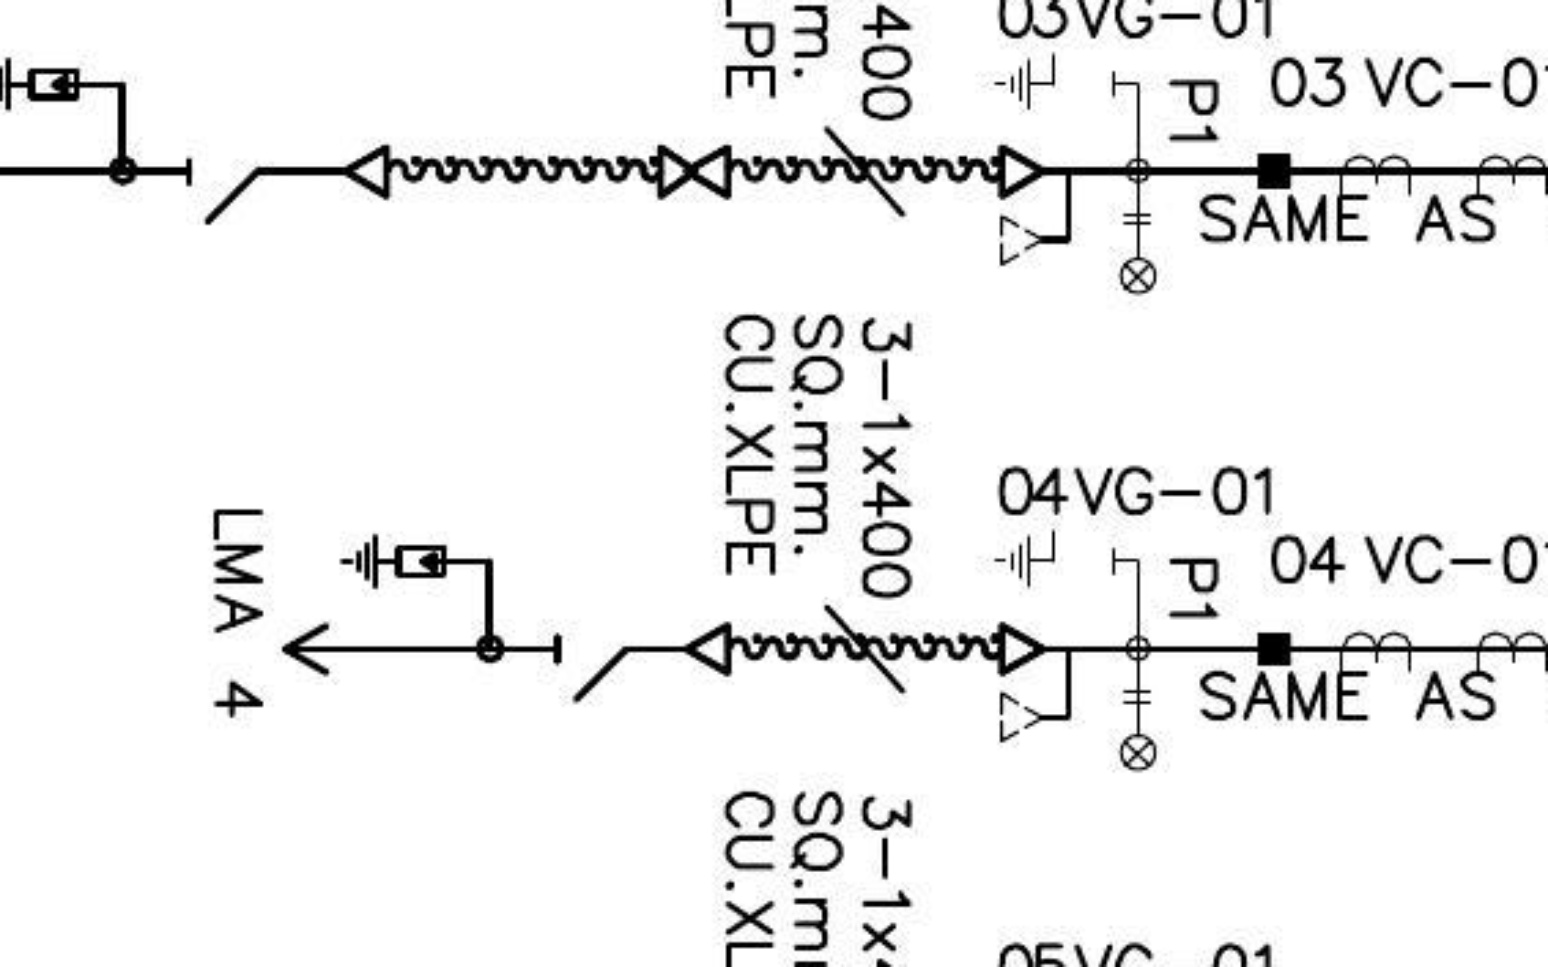22_ds_la_out: (280, 531, 630, 704)
22_gs: (995, 49, 1119, 113), (996, 527, 1120, 590)
22_ll: (1118, 212, 1159, 297), (1119, 687, 1160, 773)
terminator_single: (684, 618, 735, 680), (344, 141, 394, 204)
terminator_splicing_kits: (657, 143, 734, 201)
terminator_w_future: (996, 143, 1076, 271), (997, 621, 1077, 749)
